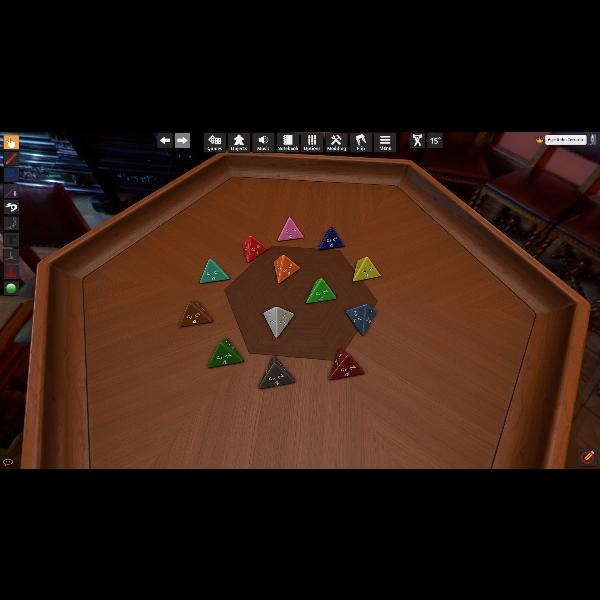d4: (259, 356, 295, 388), (329, 349, 363, 380), (263, 306, 295, 338), (208, 338, 242, 368), (344, 302, 374, 335), (180, 301, 212, 327), (306, 277, 336, 303), (273, 254, 299, 284), (200, 258, 228, 284), (353, 256, 379, 282), (243, 234, 267, 262), (317, 226, 343, 250), (277, 217, 303, 241)
